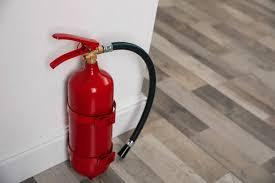floor-kept: (50, 26, 157, 183)
